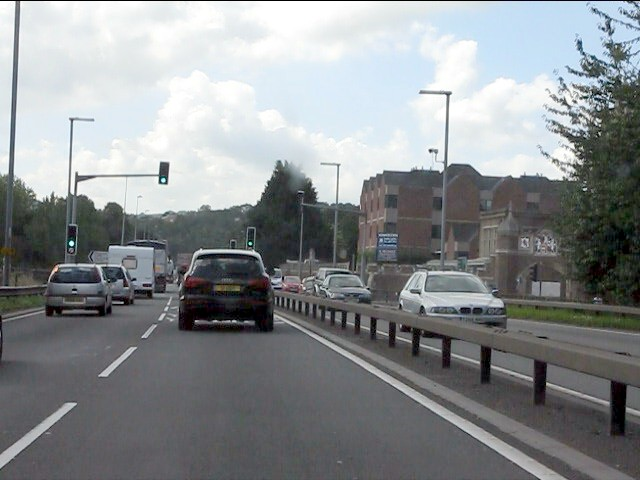go: (66, 225, 77, 256), (159, 161, 169, 185), (247, 227, 255, 249)
